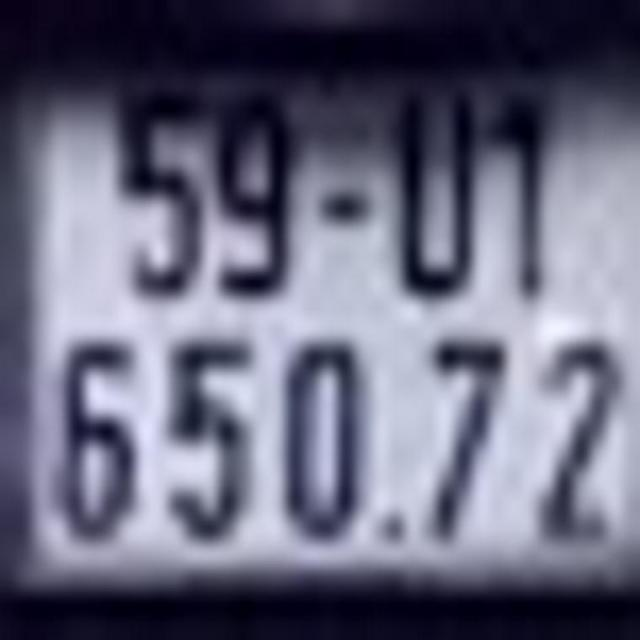0: (281, 331, 367, 543)
1: (491, 88, 552, 305)
2: (536, 332, 620, 551)
5: (164, 329, 255, 552), (120, 98, 203, 293)
6: (56, 319, 140, 547)
7: (408, 320, 498, 552)
9: (216, 95, 289, 292)
U: (384, 82, 482, 304)
